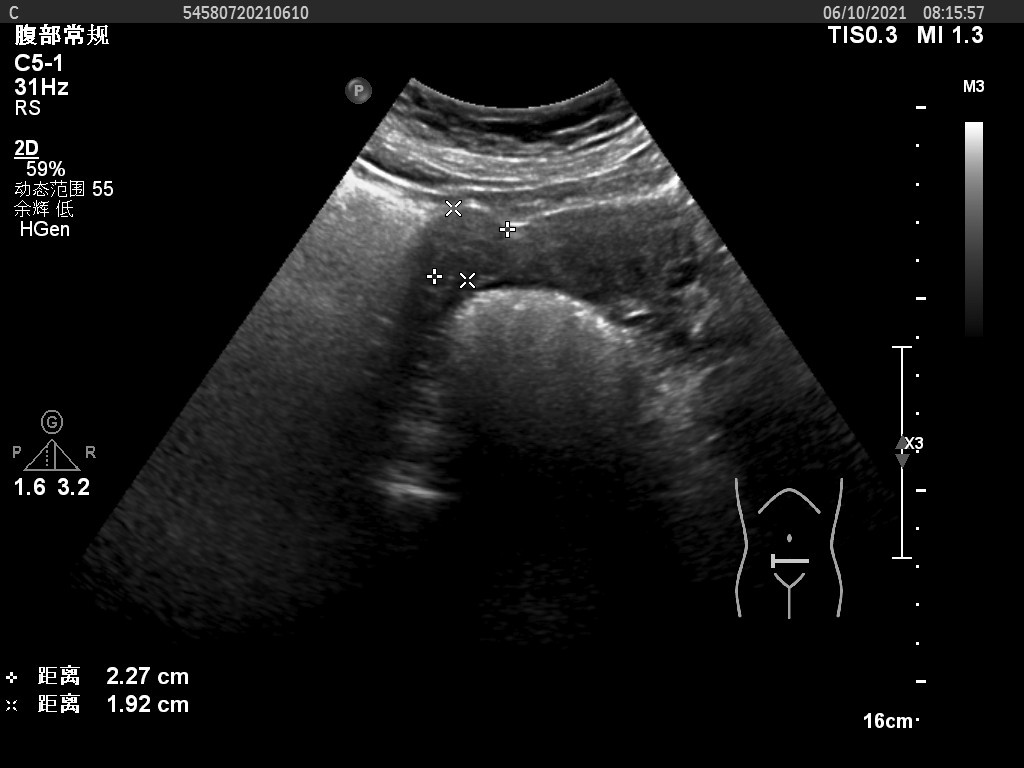肌瘤: (427, 210, 500, 275)
